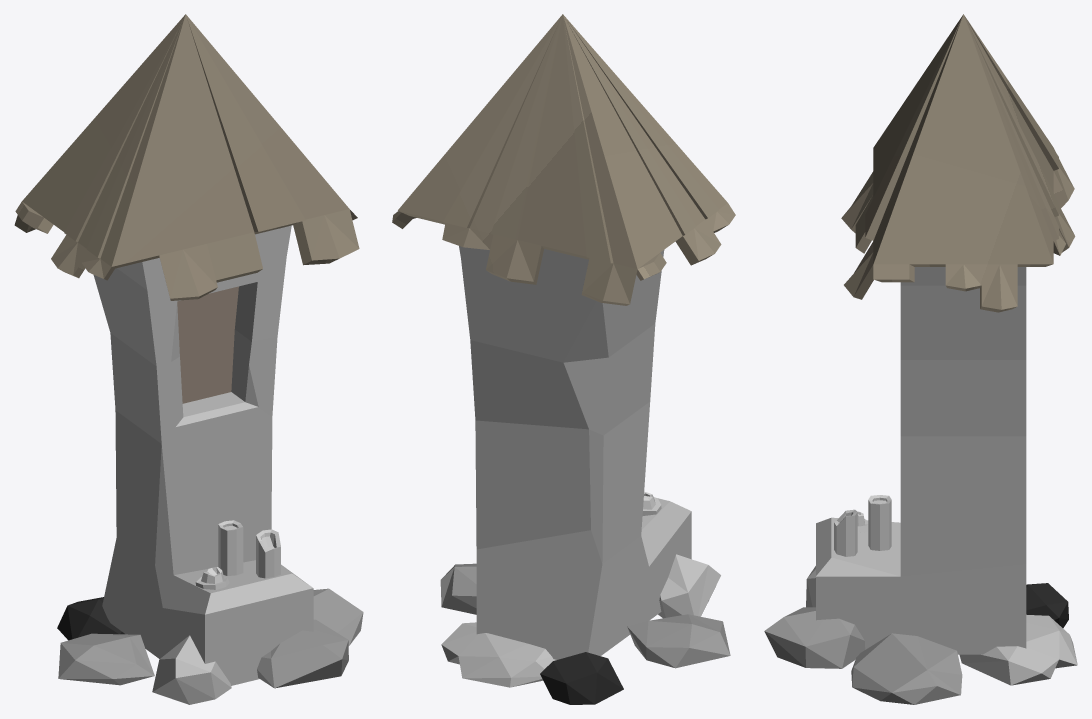
Rendered from EA03_Prop_Sign_Chapel_01.glb.
The picture shows the model from 3 angles, left to right: view 1: azimuth 30°, elevation 25°; view 2: azimuth 150°, elevation 25°; view 3: azimuth 270°, elevation 25°; orthographic projection.
Parts seen in each view (by area): view 1: EA03_Prop_Sign_Chapel_01; view 2: EA03_Prop_Sign_Chapel_01; view 3: EA03_Prop_Sign_Chapel_01.
Boxes of the visible parts, bbox=[...] form: EA03_Prop_Sign_Chapel_01: bbox=[14, 14, 363, 704]; EA03_Prop_Sign_Chapel_01: bbox=[392, 14, 735, 704]; EA03_Prop_Sign_Chapel_01: bbox=[764, 14, 1077, 704].
Size of the model in its own units: 1.95 by 4.01 by 1.78.
Materials: 1 (1 with a texture image).
